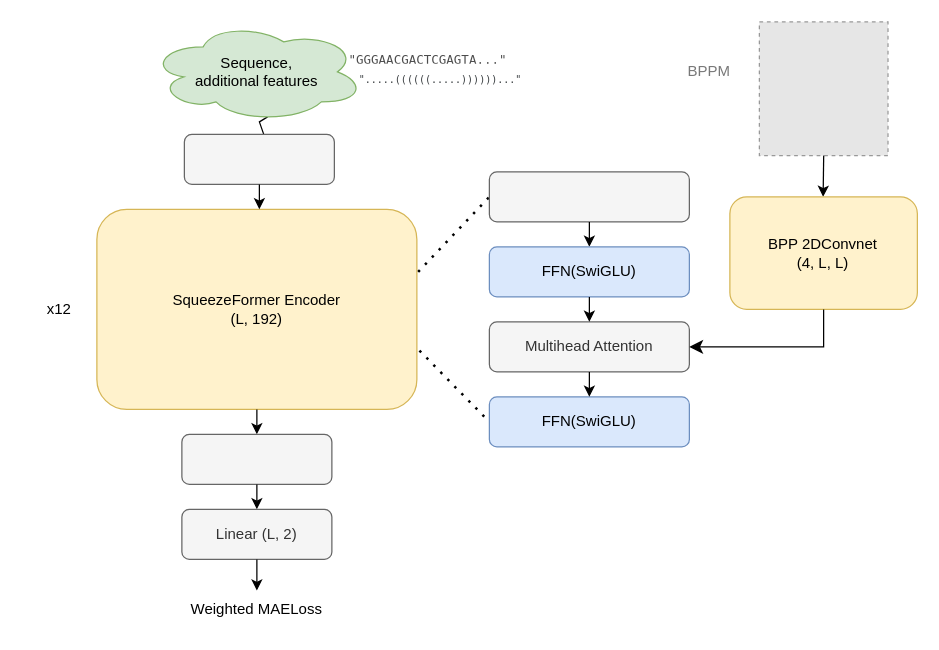
This 939x650 diagram has some shape labels left out. Grey dashed boxes stand in for pictures. The centre of each missing label's shape, as x and y in pixels:
"Conv1DBlock" belongs at (x=588, y=196).
"Embedding (L, 192)" belongs at (x=258, y=158).
"GRU (L, 192)" belongs at (x=256, y=458).
